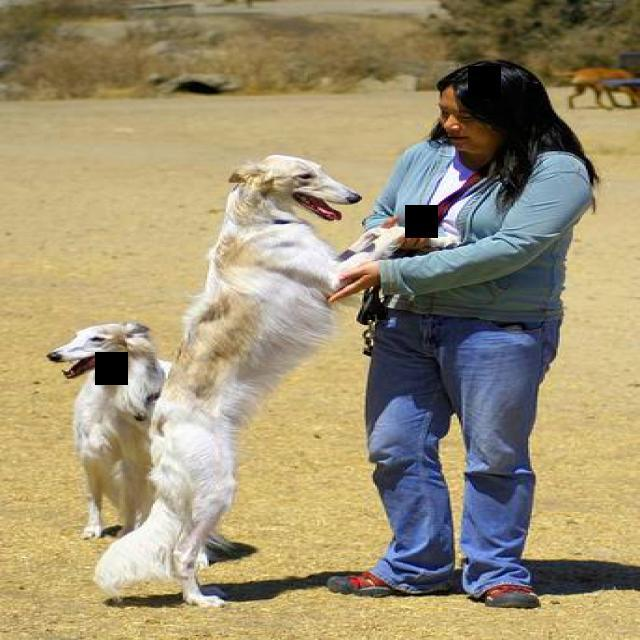adult_dog: (91, 152, 452, 612), (51, 323, 171, 544)
non-dog: (326, 60, 599, 610)
